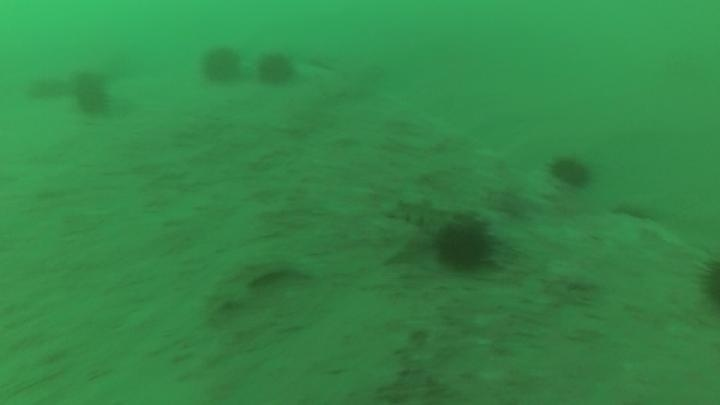echinus: (430, 212, 499, 276), (197, 42, 244, 87), (547, 152, 595, 191), (254, 49, 298, 90), (692, 250, 720, 314), (24, 72, 66, 104), (69, 65, 104, 96), (77, 89, 111, 119)
holothurian: (380, 194, 455, 230)
starfish: (377, 218, 444, 275)
